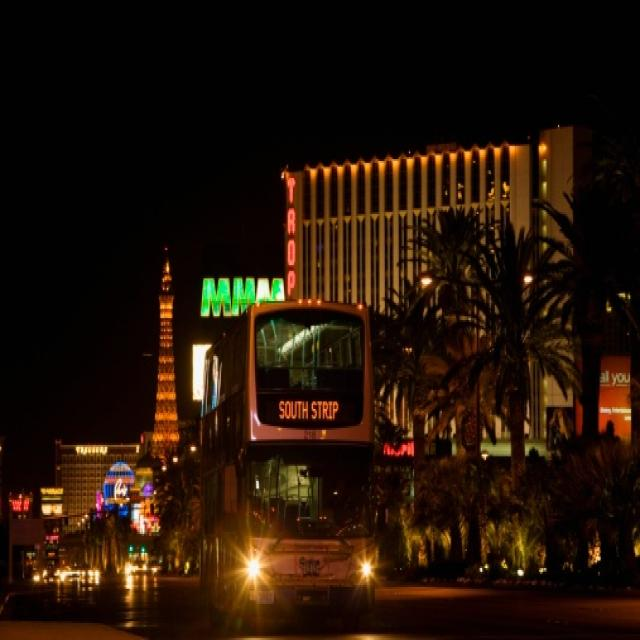Bus: (194, 262, 389, 634)
